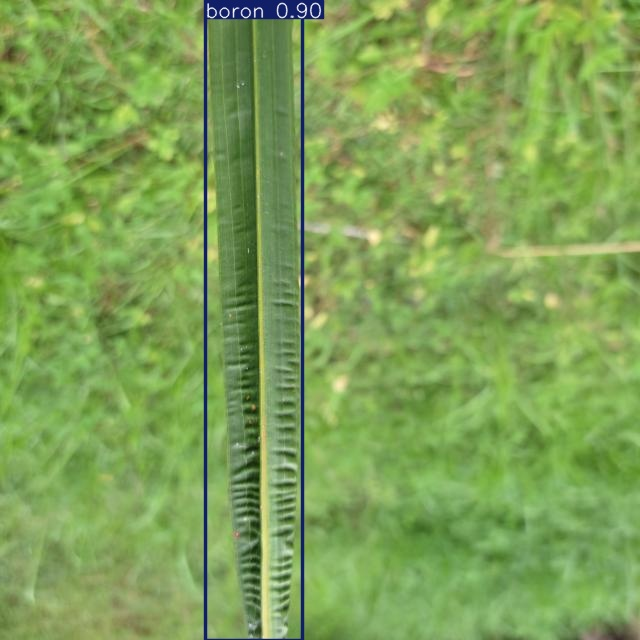nitrogen: (205, 0, 302, 640)
